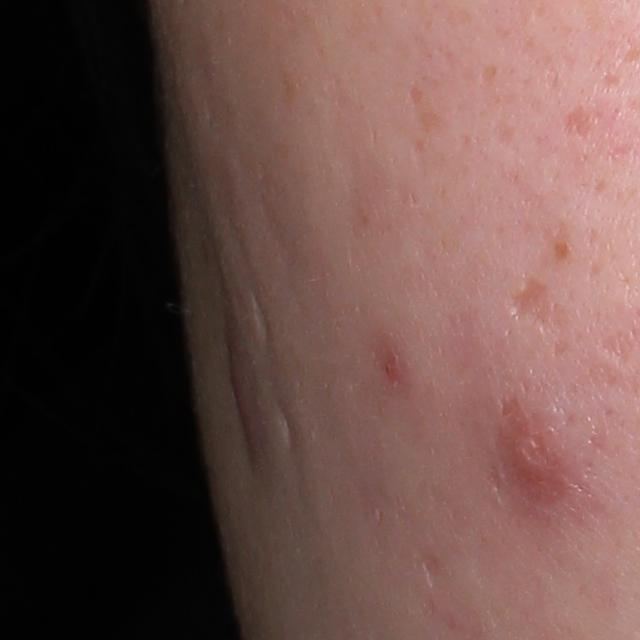atrophic_scar: (510, 280, 558, 330), (277, 404, 301, 454), (558, 107, 593, 137), (603, 331, 634, 364), (424, 556, 439, 586)
papule: (504, 398, 569, 509), (382, 352, 409, 392)
